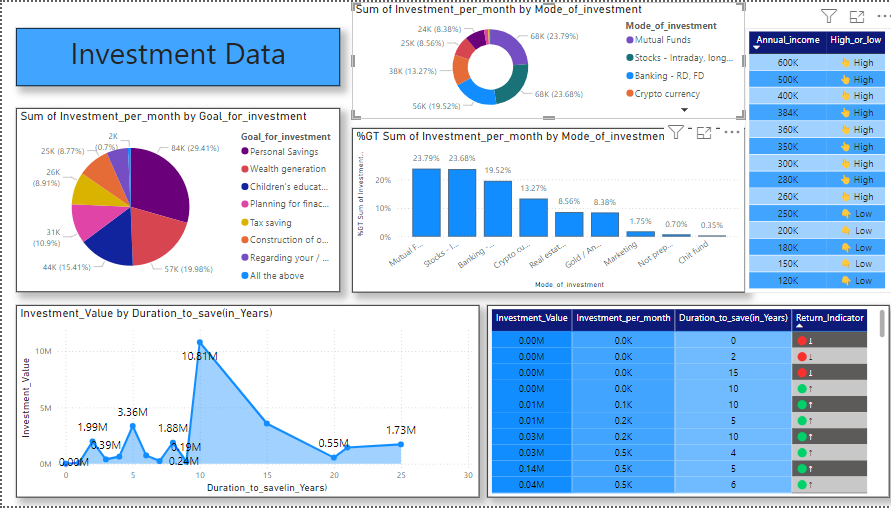

This screenshot's page, from the dashboard's own definition file:
{"tool":"powerbi","page":{"name":"Page 1","canvas":[1280,720],"ordinal":0},"visuals":[{"type":"tableEx","fields":{"Values":["investment_data.Profits","investment_data.Investment_per_month","investment_data.Duration_to_save(in_Years) ","investment_data.Return_Indicator"]},"box":[693.3,433.3,575,275],"z":0},{"type":"lineChart","fields":{"Y":["investment_data.Investment_Value"],"Category":["investment_data.Duration_to_save(in_Years) "]},"box":[20,433.3,661.7,275],"z":1000},{"type":"pieChart","fields":{"Category":["investment_data.Goal_for_investment"],"Y":["Sum(investment_data.Investment_per_month)"]},"box":[20,151.7,463.3,263.3],"z":2000},{"type":"lineStackedColumnComboChart","fields":{"Category":["investment_data.Mode_of_investment"],"Y":["Divide(Sum(investment_data.Investment_per_month), ScopedEval(Sum(investment_data.Investment_per_month), []))"]},"box":[500,180,561.7,235],"z":3000},{"type":"tableEx","fields":{"Values":["investment_data.Annual_income","investment_data.High_or_low"]},"box":[1061.7,36.7,218.3,378.3],"z":4000},{"type":"donutChart","fields":{"Category":["investment_data.Mode_of_investment"],"Y":["Sum(investment_data.Investment_per_month)"]},"box":[500,0,561.7,166.7],"z":5000},{"type":"textbox","title":"Investment Data","box":[20,36.7,463.3,83.3],"z":6000}]}

Visuals, with their boxes in screenshot pixels (x1, y1, x2, y2), scaled from the page's 1280x720 canvas onto the 891x512 screenshot:
tableEx - investment_data.Profits x investment_data.Investment_per_month: left=483, top=308, right=883, bottom=504
lineChart - investment_data.Investment_Value x investment_data.Duration_to_save(in_Years) : left=14, top=308, right=475, bottom=504
pieChart - investment_data.Goal_for_investment x Sum(investment_data.Investment_per_month): left=14, top=108, right=336, bottom=295
lineStackedColumnComboChart - investment_data.Mode_of_investment x Divide(Sum(investment_data.Investment_per_month), ScopedEval(Sum(investment_data.Investment_per_month), [])): left=348, top=128, right=739, bottom=295
tableEx - investment_data.Annual_income x investment_data.High_or_low: left=739, top=26, right=890, bottom=295
donutChart - investment_data.Mode_of_investment x Sum(investment_data.Investment_per_month): left=348, top=0, right=739, bottom=119
"Investment Data" textbox: left=14, top=26, right=336, bottom=85
